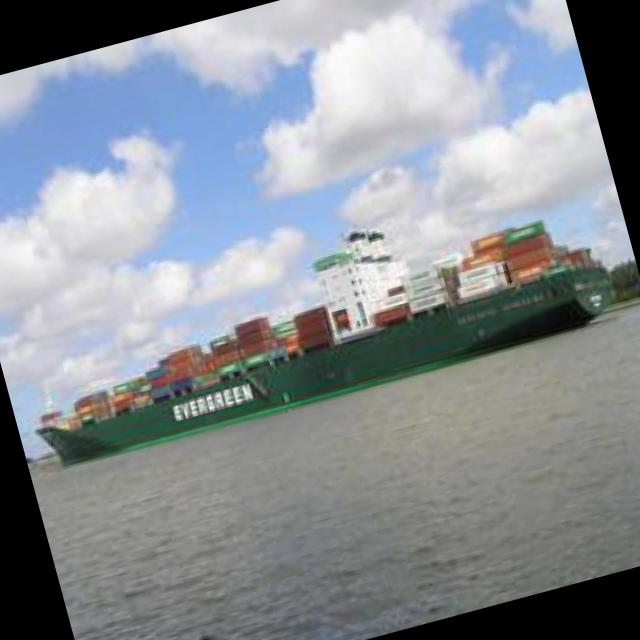boat: (29, 241, 616, 473)
